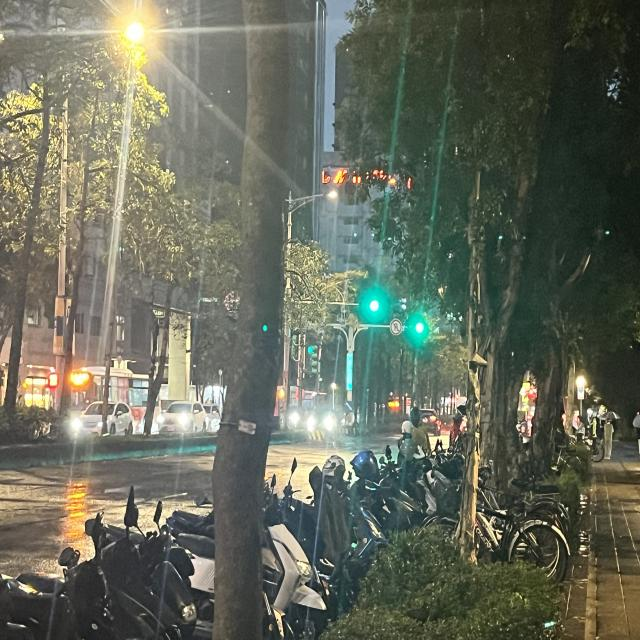green light: (353, 293, 384, 318), (404, 320, 427, 338)
